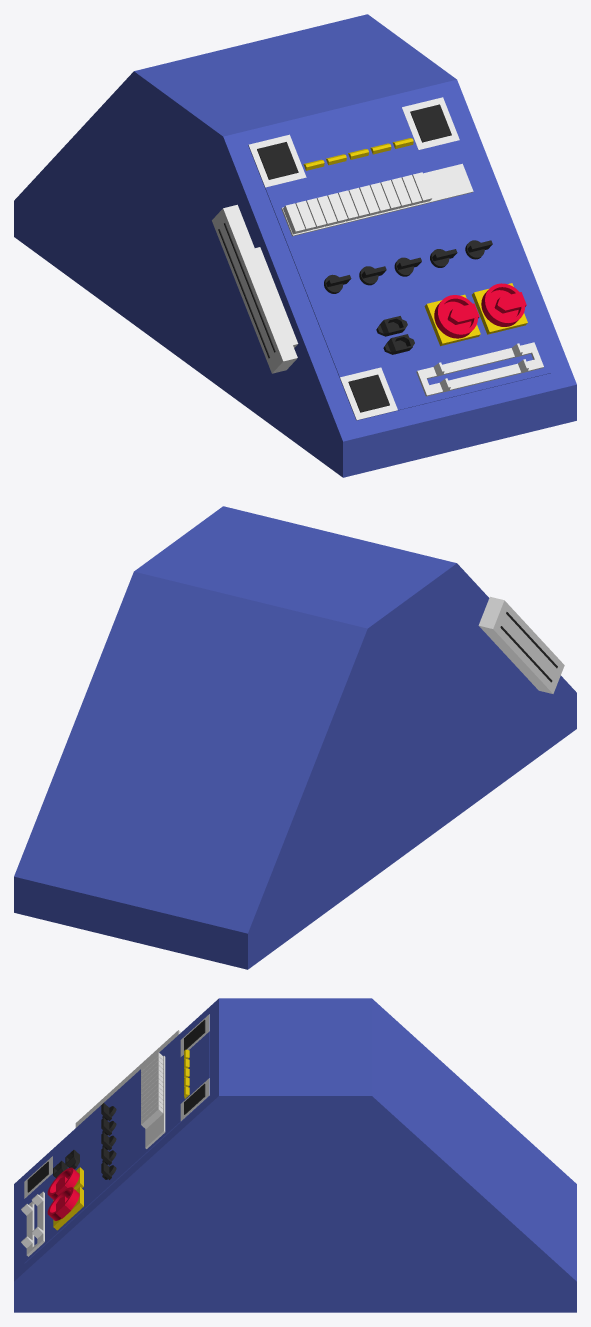
The model's file is panel.fbx.
3 views of the same model, one above another, from view 1: azimuth 30°, elevation 25°; view 2: azimuth 150°, elevation 25°; view 3: azimuth 270°, elevation 25° (orthographic). The views are drawn at different scales.
Visible parts, largest first — view 1: Cube.019; view 2: Cube.019; view 3: Cube.019.
Part boxes in pixels (<box>): Cube.019: <box>14,14,576,477</box>; Cube.019: <box>14,506,576,969</box>; Cube.019: <box>14,998,576,1312</box>.
Bounding box in the file's own units: 43.84 × 41.08 × 96.7.
